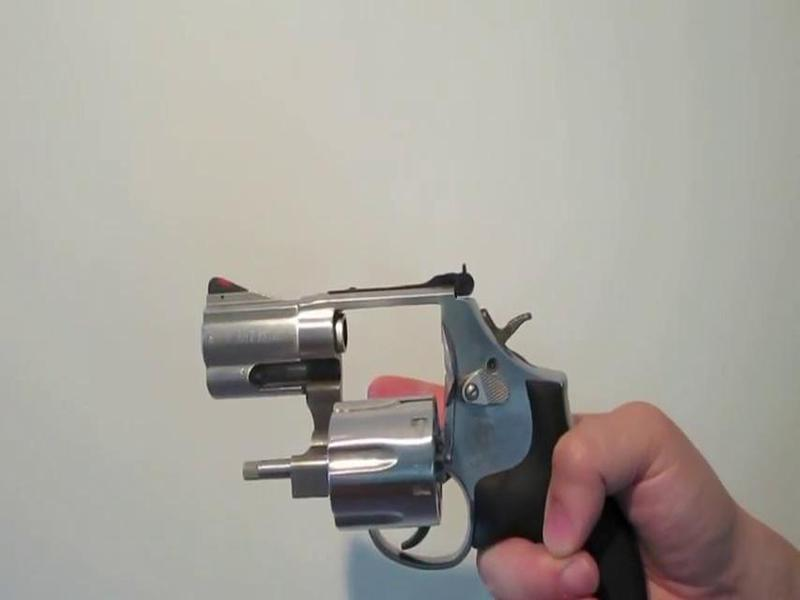Revolver: (170, 245, 637, 596)
